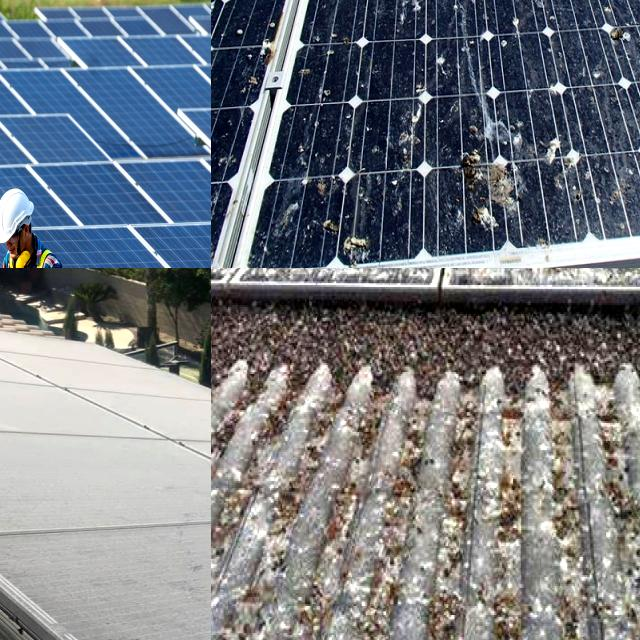bird: (444, 130, 537, 248), (299, 140, 394, 255), (211, 0, 260, 221), (547, 0, 640, 71), (425, 0, 506, 61), (211, 0, 362, 31), (400, 0, 577, 21), (389, 0, 512, 21), (555, 268, 636, 297), (257, 268, 316, 305), (464, 268, 542, 292), (211, 268, 244, 290), (211, 268, 224, 299)
crack: (0, 156, 79, 257), (0, 170, 76, 250), (0, 218, 86, 268)
dust: (0, 450, 171, 524), (0, 368, 129, 434), (50, 553, 158, 624), (122, 403, 211, 436)
